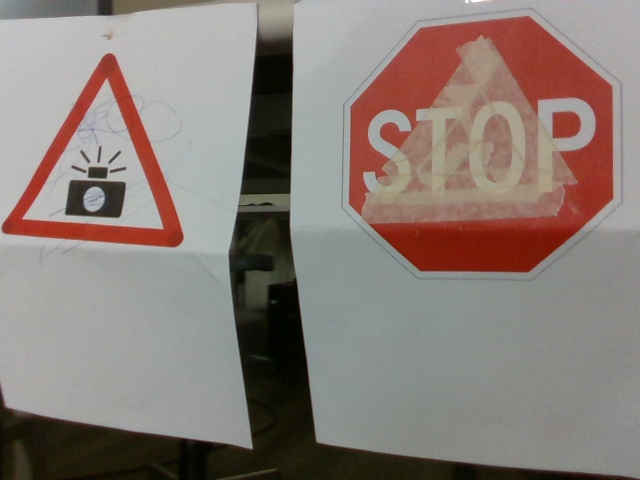camera: (4, 53, 186, 251)
stop: (344, 11, 626, 277)
